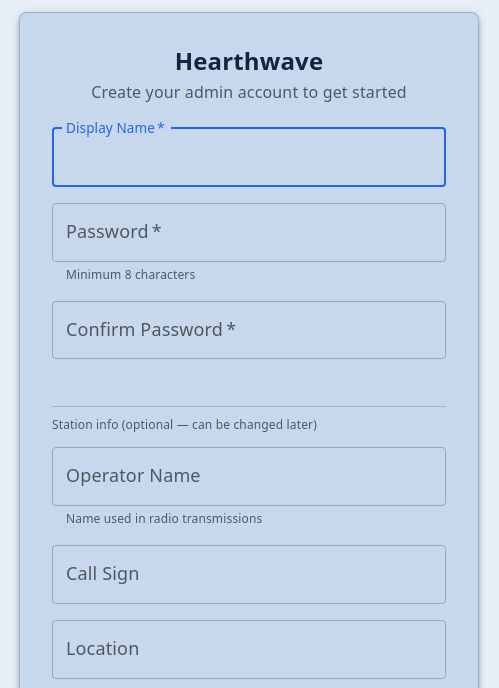
SetupScreen › error display › clears error when password changes after error
In the field labelled "Display Name *": (249, 157) left=52, top=128, right=446, bottom=187, type "Admin"
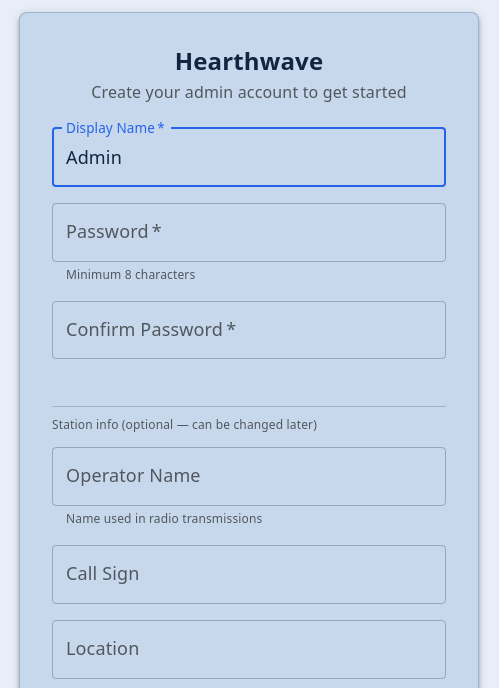
In the password field labelled "Password *": (249, 232) left=52, top=203, right=446, bottom=262, type "password123"
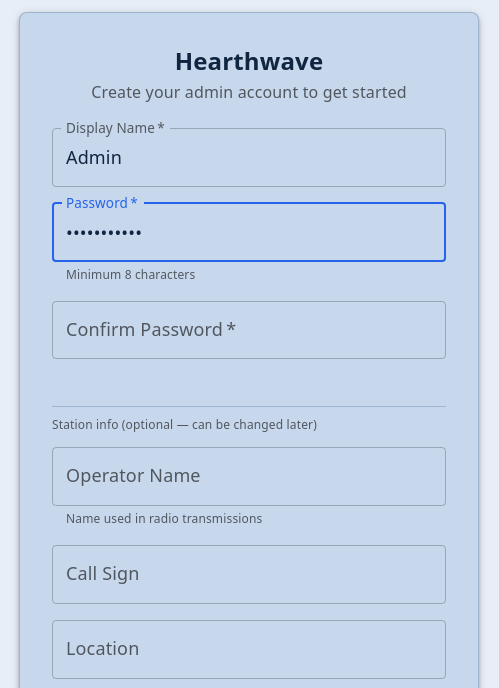
In the password field labelled "Confirm Password *": (249, 330) left=52, top=300, right=446, bottom=359, type "password123"
(page scrolled)
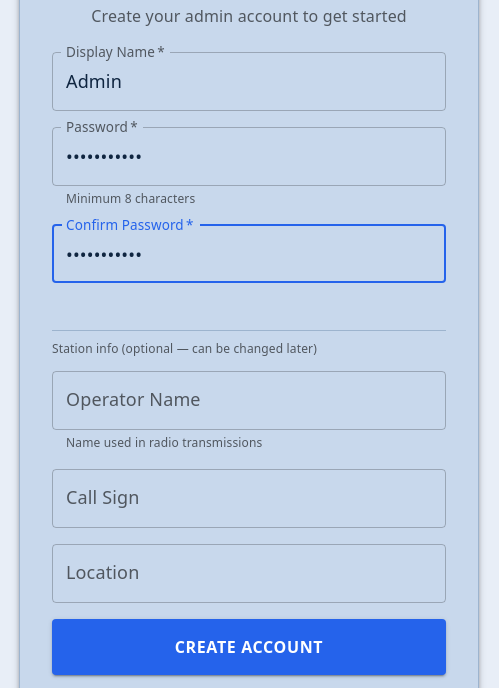
Click the button "Create Account": (249, 647) left=52, top=619, right=446, bottom=675
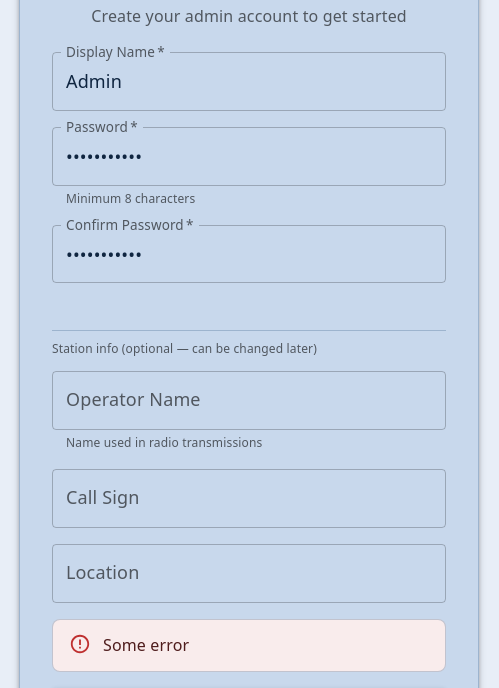
Result: the text "Some error" is shown at left=103, top=634, right=189, bottom=656
In the password field labelled "Password *": (249, 156) left=52, top=127, right=446, bottom=186, type "x"
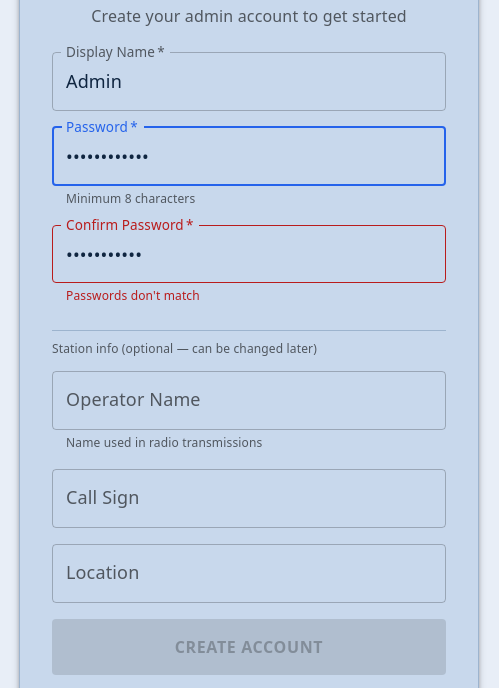
Result: the text "Some error" is gone
